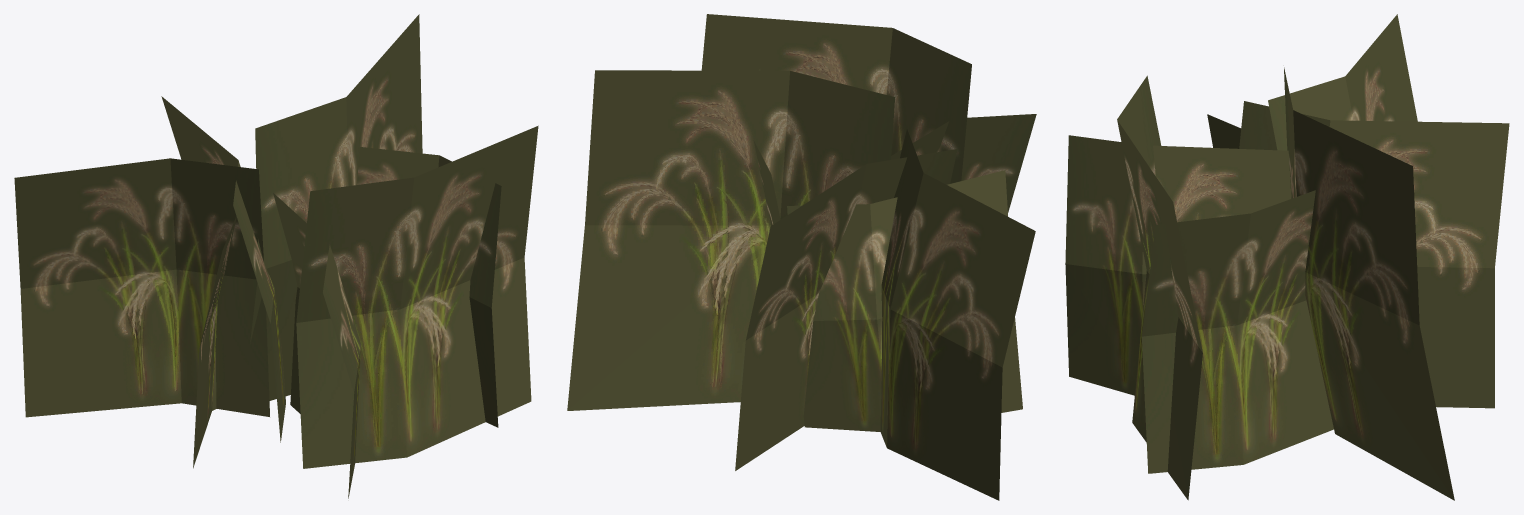
Rendered from bg_anh_foliage_crops21_sm_ksy.FBX.
3 views of the same model, side by side, from view 1: azimuth 30°, elevation 25°; view 2: azimuth 150°, elevation 25°; view 3: azimuth 270°, elevation 25° (orthographic). The views are drawn at different scales.
Visible parts, largest first — view 1: bg_anh_foliage_crops21_sm_ksy; view 2: bg_anh_foliage_crops21_sm_ksy; view 3: bg_anh_foliage_crops21_sm_ksy.
Boxes of the visible parts, x1=… form: bg_anh_foliage_crops21_sm_ksy: x1=14, y1=14, x2=538, y2=498; bg_anh_foliage_crops21_sm_ksy: x1=567, y1=14, x2=1036, y2=500; bg_anh_foliage_crops21_sm_ksy: x1=1065, y1=14, x2=1509, y2=500.
Size of the model in its own units: 175 by 124 by 151.
